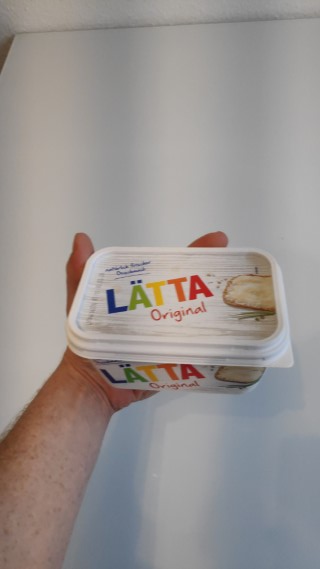laetta: (63, 246, 294, 395)
